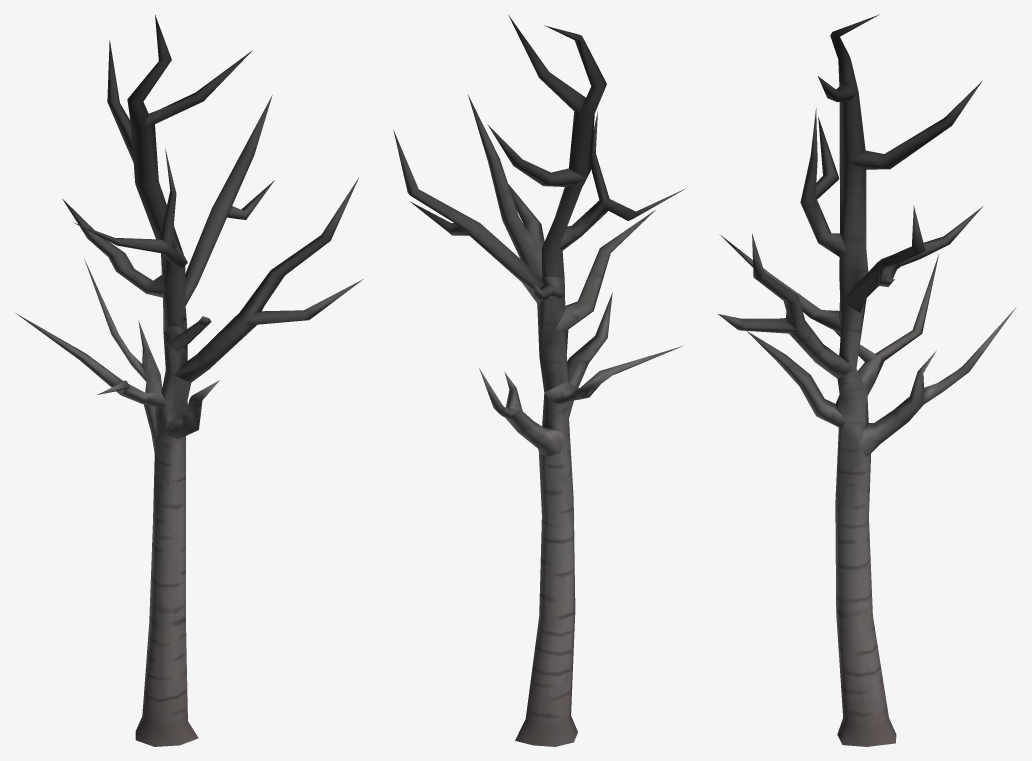
The picture shows the model from 3 angles, left to right: view 1: azimuth 30°, elevation 25°; view 2: azimuth 150°, elevation 25°; view 3: azimuth 270°, elevation 25°; orthographic projection.
Parts seen in each view (by area): view 1: body0_model0_lod0_mesh0; view 2: body0_model0_lod0_mesh0; view 3: body0_model0_lod0_mesh0.
Boxes of the visible parts, x1=… form: body0_model0_lod0_mesh0: x1=15, y1=15, x2=363, y2=746; body0_model0_lod0_mesh0: x1=393, y1=15, x2=686, y2=746; body0_model0_lod0_mesh0: x1=717, y1=14, x2=1016, y2=746.
Size of the model in its own units: 6.19 by 16.63 by 6.3.
Materials: 1 (1 with a texture image).
